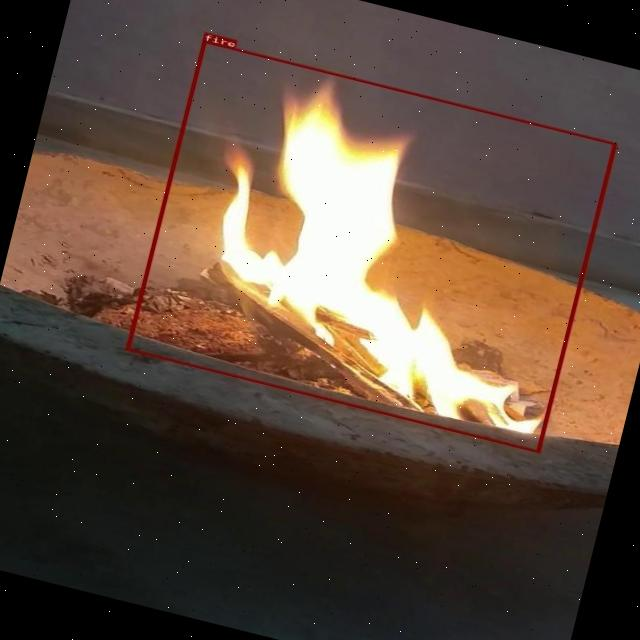fire: (124, 39, 616, 452)
